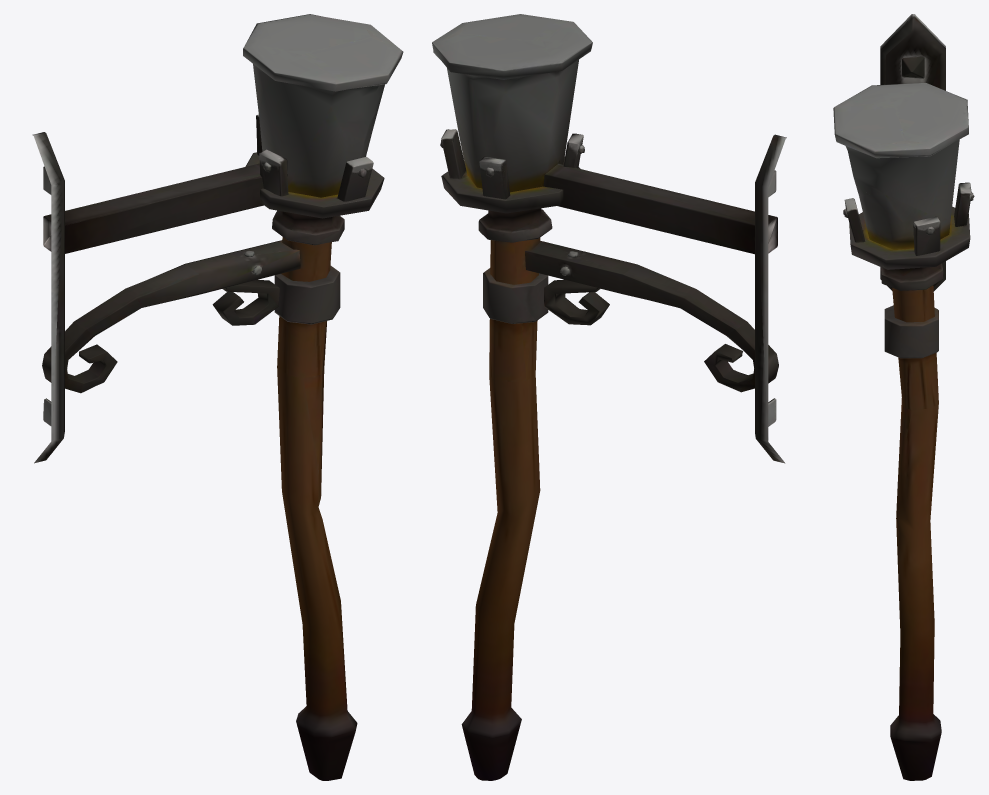
The model's file is yumi_torch_handle.glb.
3 renders of one model, left to right at view 1: azimuth 30°, elevation 25°; view 2: azimuth 150°, elevation 25°; view 3: azimuth 270°, elevation 25°, orthographic. The views are drawn at different scales.
Parts seen in each view (by area): view 1: tripo_node_cd35d128-743f-4199-ab50-2ca06f5cf594; view 2: tripo_node_cd35d128-743f-4199-ab50-2ca06f5cf594; view 3: tripo_node_cd35d128-743f-4199-ab50-2ca06f5cf594.
Boxes of the visible parts, bbox=[...] form: tripo_node_cd35d128-743f-4199-ab50-2ca06f5cf594: bbox=[32, 14, 403, 780]; tripo_node_cd35d128-743f-4199-ab50-2ca06f5cf594: bbox=[432, 14, 786, 780]; tripo_node_cd35d128-743f-4199-ab50-2ca06f5cf594: bbox=[833, 14, 974, 780].
Bounding box in the file's own units: 0.4912 × 1 × 0.1937.
Materials: 1 (1 with a texture image).
